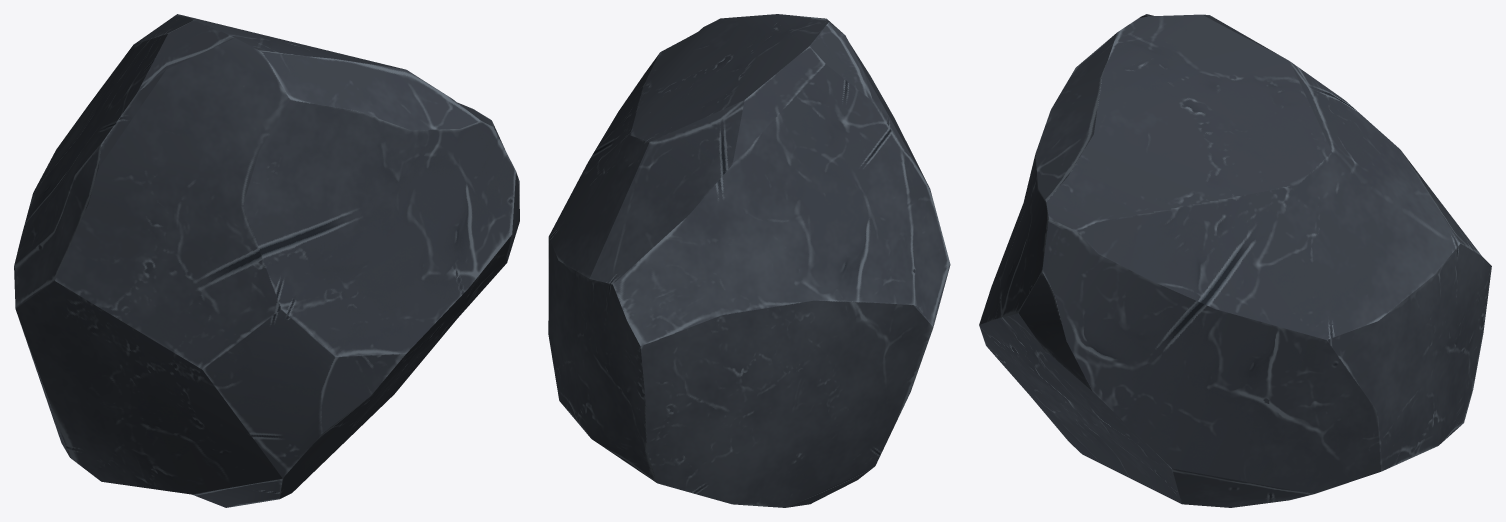
The model's file is stylizedrock.glb.
The picture shows the model from 3 angles, left to right: view 1: azimuth 30°, elevation 25°; view 2: azimuth 150°, elevation 25°; view 3: azimuth 270°, elevation 25°; orthographic projection. The views are drawn at different scales.
Visible parts, largest first — view 1: Rock; view 2: Rock; view 3: Rock.
Part boxes in pixels (<box>): Rock: <box>14,14,519,507</box>; Rock: <box>548,14,950,507</box>; Rock: <box>979,14,1491,507</box>.
Bounding box in the file's own units: 1.14 × 1.25 × 1.25.
Materials: 1 (1 with a texture image).
